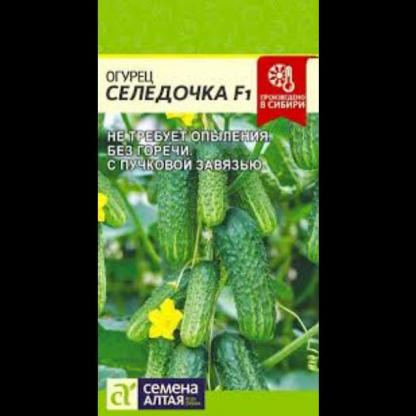cucumber: (213, 208, 284, 341), (148, 121, 208, 272), (193, 313, 280, 392), (186, 132, 244, 238), (172, 260, 235, 349), (126, 265, 190, 351), (148, 316, 206, 394), (277, 107, 318, 204)
